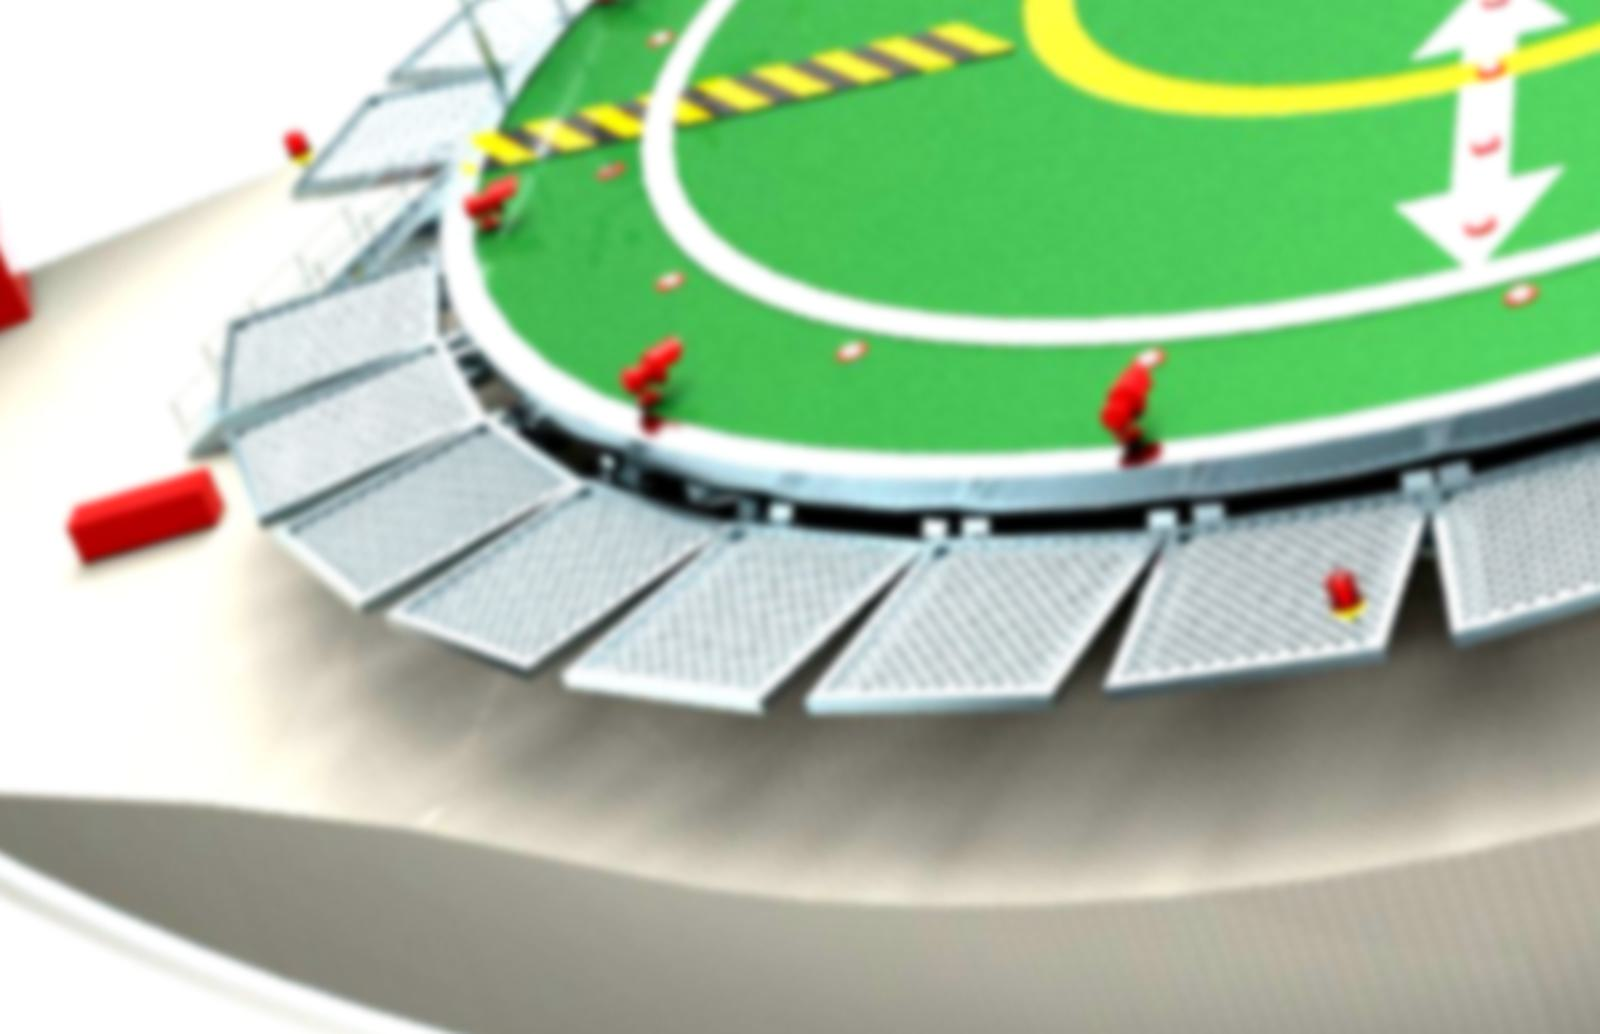Apron: (985, 1, 1600, 140)
